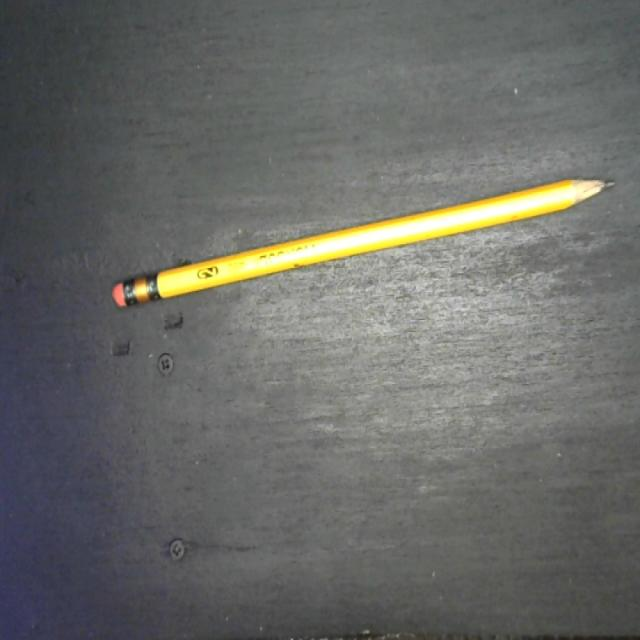biodegradable: (109, 172, 618, 318)
